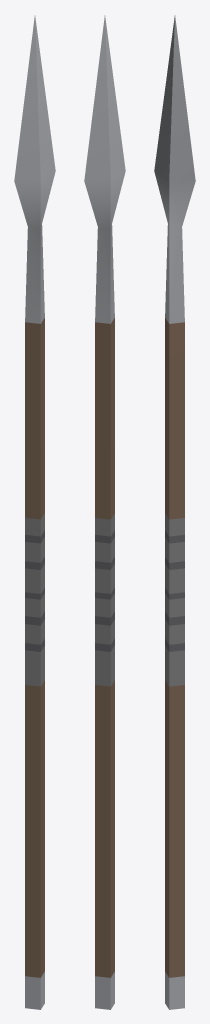
Rendered from Spear_2.fbx.
3 renders of one model, left to right at view 1: azimuth 30°, elevation 25°; view 2: azimuth 210°, elevation 25°; view 3: azimuth 330°, elevation 25°, orthographic.
Visible parts, largest first — view 1: pCylinder70; view 2: pCylinder70; view 3: pCylinder70.
Part boxes in pixels (left/top/right/bottom): pCylinder70: left=14, top=15, right=55, bottom=1009; pCylinder70: left=84, top=15, right=125, bottom=1009; pCylinder70: left=154, top=15, right=195, bottom=1009.
Size of the model in its own units: 24.99 by 572 by 12.
